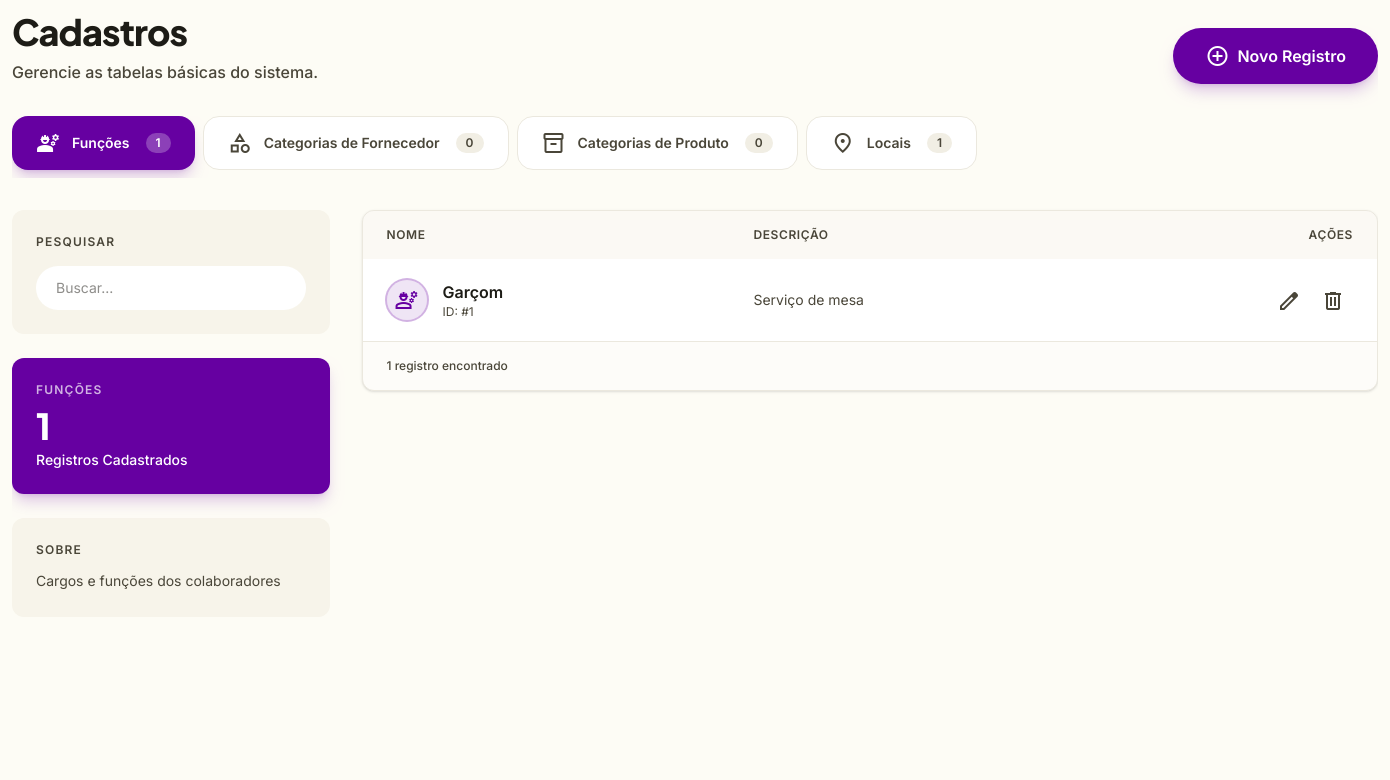
Scenario: CadastrosPage — capacidadeMaxima › deve exibir coluna "Capacidade" na tabela de Locais
This screenshot has width=1390, height=780.
Click the button "Locais 1" at (891, 143), box [806,116,977,170]
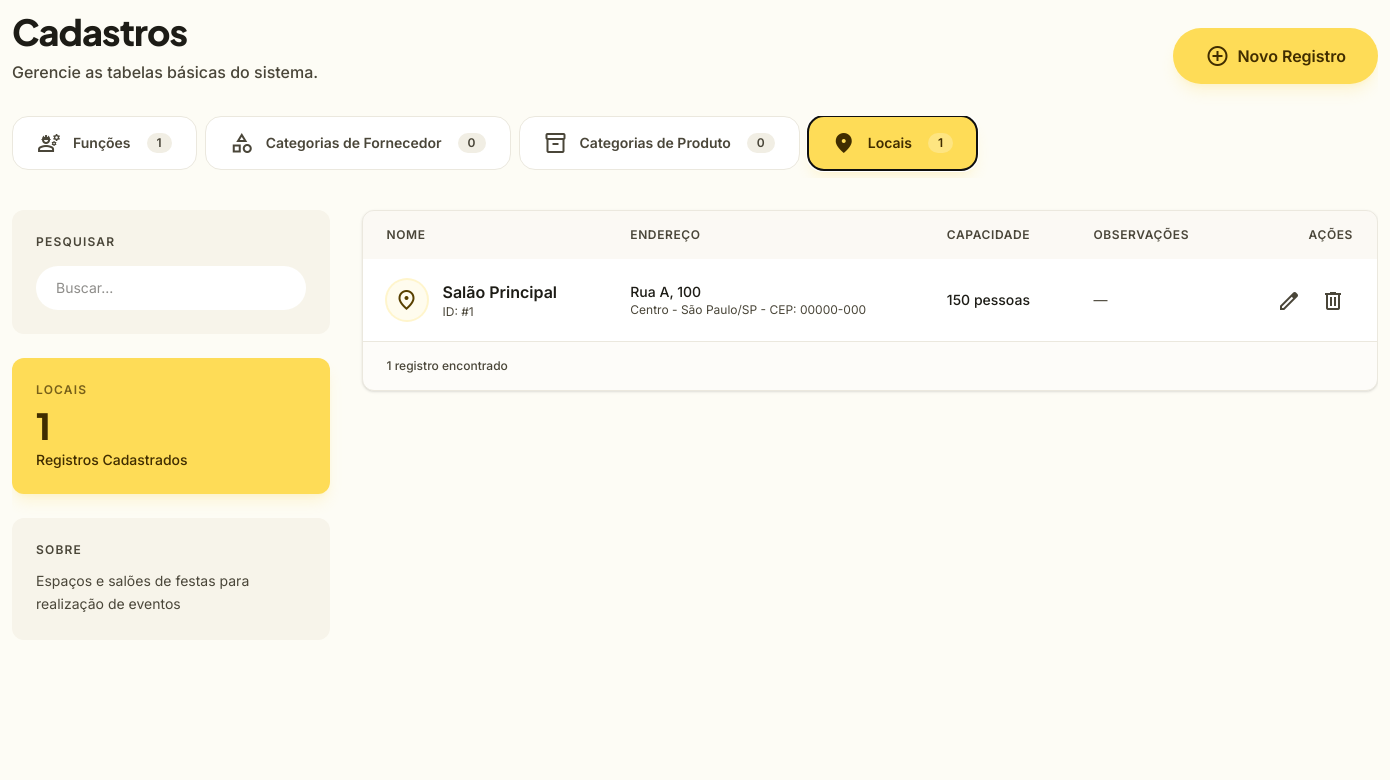
Check: the column heading "Capacidade" is shown, box [923,211,1069,259]
Check: the text "150 pessoas" is shown, box [947,291,1030,308]
